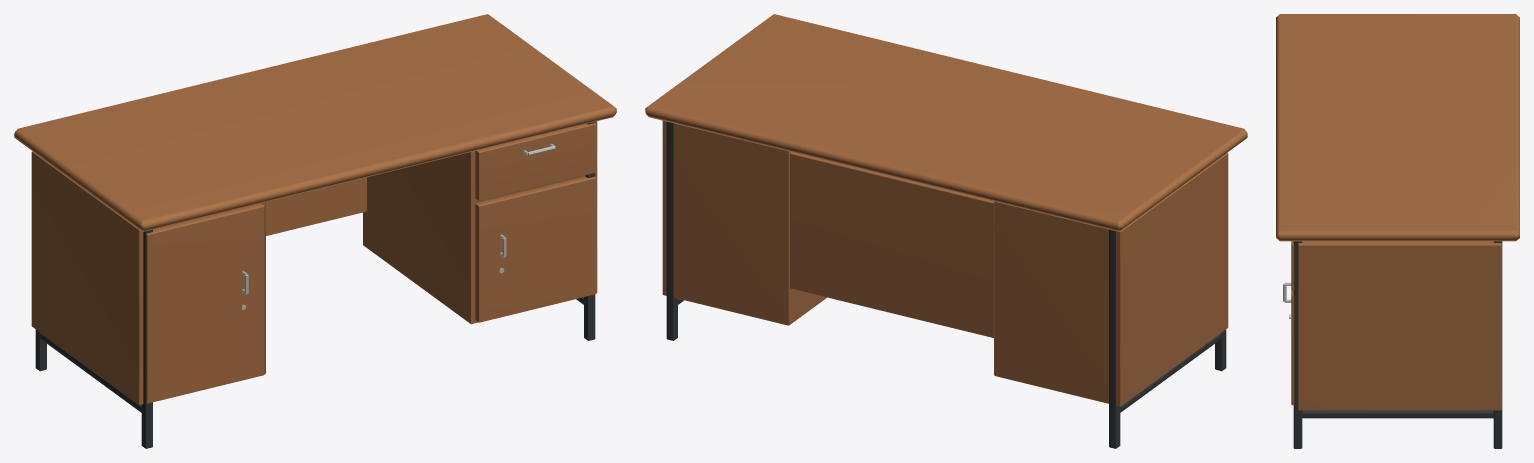
File: TeacherDesk.fbx
The picture shows the model from 3 angles, left to right: view 1: azimuth 30°, elevation 25°; view 2: azimuth 150°, elevation 25°; view 3: azimuth 270°, elevation 25°; orthographic projection. The views are drawn at different scales.
Parts seen in each view (by area): view 1: Amber teak, Graphite enamel; view 2: Amber teak, Graphite enamel; view 3: Amber teak, Graphite enamel.
Part boxes in pixels (x1,y1,x2,y2): Amber teak: (14,14,616,404); Graphite enamel: (35,122,595,448); Amber teak: (645,14,1247,406); Graphite enamel: (666,122,1226,448); Amber teak: (1276,14,1519,410); Graphite enamel: (1293,241,1502,448).
Bounding box in the file's own units: 162 × 76.9 × 76.
